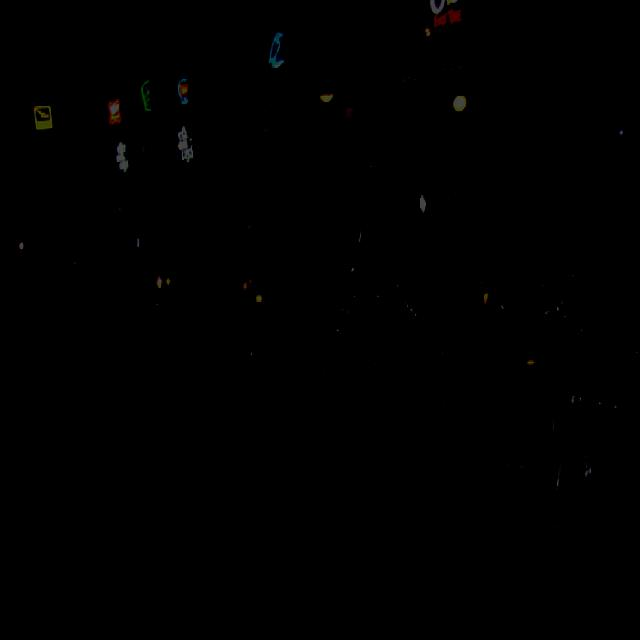Motorbike: (207, 218, 640, 553)
